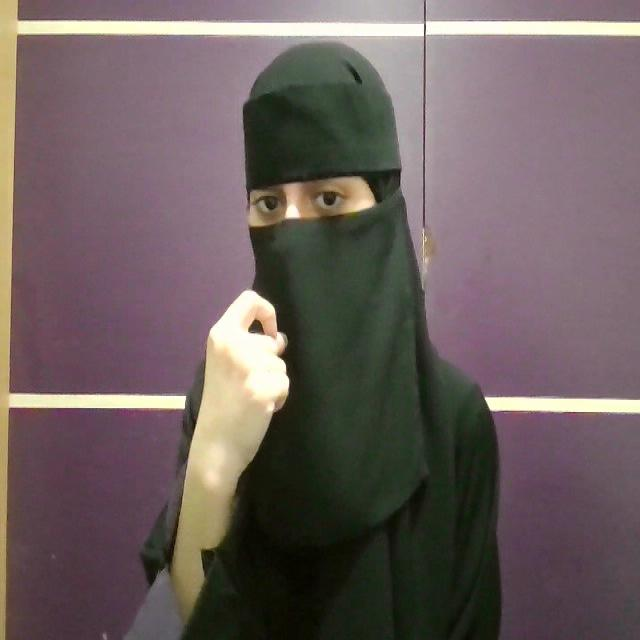medicine: (177, 288, 290, 511)
